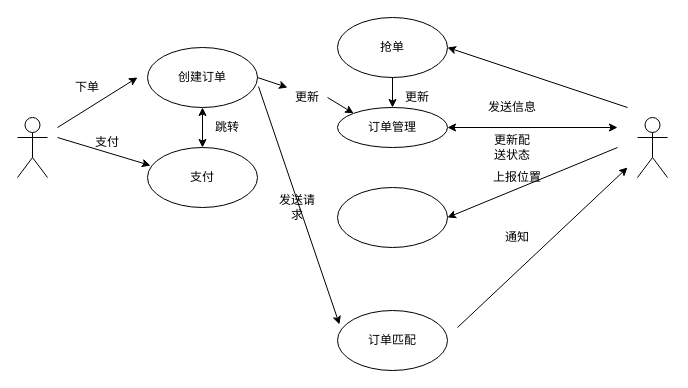
Some shapes in this 688 by 388 pixel diagram are drawn without their labels. Here are the shapes that lost their labels. From the top down, the centre of each, then its label:
(32,147): 用户
(652,147): 快递员
(392,217): 快递员位置管理
